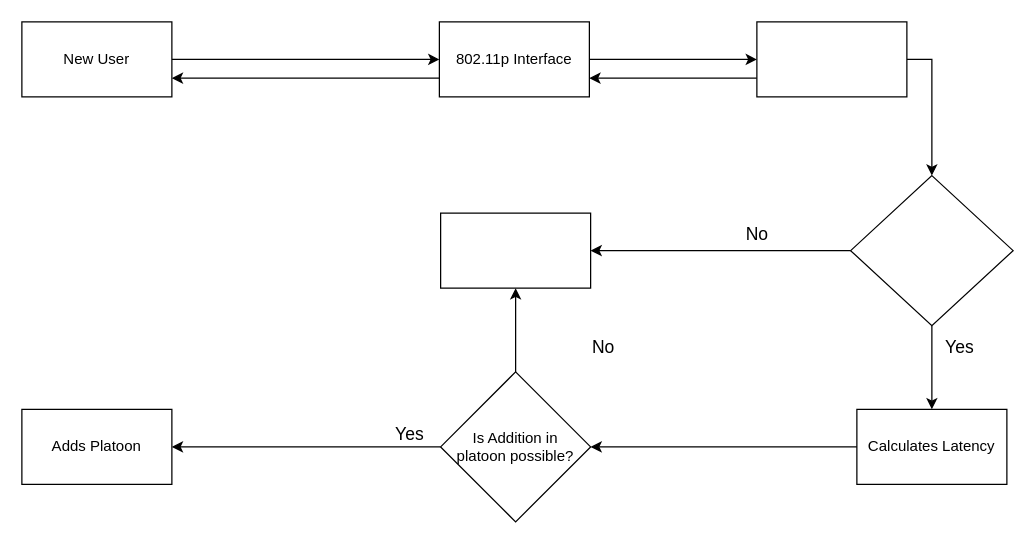
This 1035x544 diagram has some shape labels left out. Here are the shapes that lost their labels. From the top down, the centre of each, then its label:
the point at 831,59: Boradcast WSA
the point at 515,250: Act as Separate Vehicle
the point at 931,250: Is Any Head of Platoon nearby?
